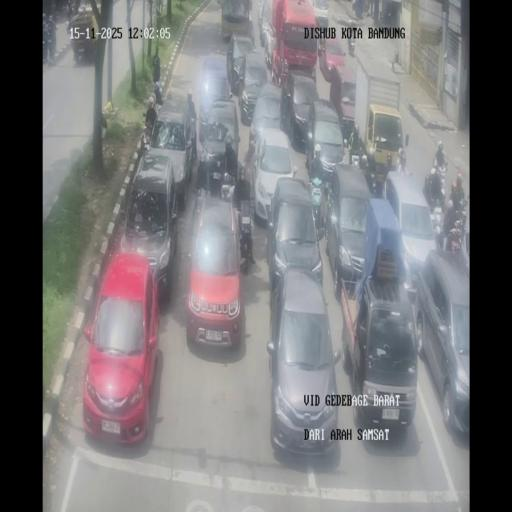3: (270, 0, 318, 85), (219, 0, 253, 41)
car: (82, 251, 160, 443), (268, 270, 341, 458), (342, 266, 419, 438), (415, 250, 469, 441), (120, 152, 179, 296), (384, 172, 439, 294), (326, 162, 374, 295), (306, 96, 344, 179), (198, 56, 231, 129), (249, 84, 284, 151), (228, 34, 257, 94), (69, 9, 97, 64), (318, 33, 348, 83), (258, 0, 273, 52), (309, 0, 329, 30)
truck: (188, 186, 208, 254), (444, 208, 468, 253), (140, 107, 161, 155), (308, 173, 324, 233), (360, 150, 379, 195), (238, 220, 254, 272), (432, 204, 446, 244), (434, 158, 448, 194), (187, 112, 198, 156), (221, 169, 236, 197), (348, 144, 364, 168), (42, 19, 50, 63), (153, 80, 163, 105), (397, 157, 409, 177), (66, 0, 74, 21), (348, 36, 356, 56), (365, 0, 373, 18), (66, 17, 72, 34)
